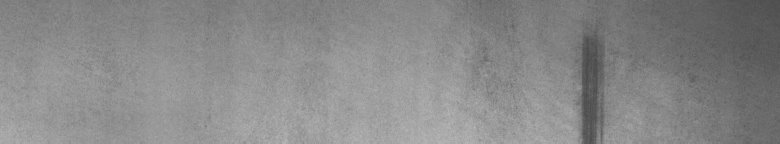ka: (568, 29, 616, 136)
